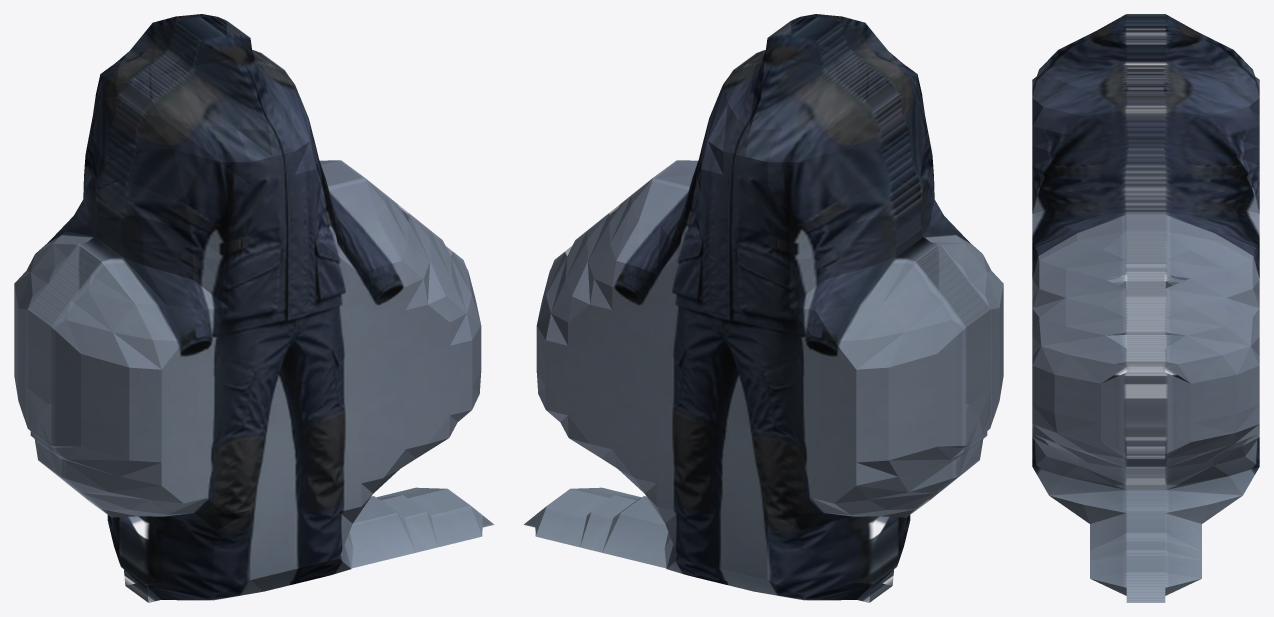
The model's file is tcx-horizon-rain-gear-048.glb.
3 views of the same model, side by side, from view 1: azimuth 30°, elevation 25°; view 2: azimuth 150°, elevation 25°; view 3: azimuth 270°, elevation 25° (orthographic). The views are drawn at different scales.
Visible parts, largest first — view 1: world; view 2: world; view 3: world.
Boxes of the visible parts, x1,y1,x2,y2 form: world: [14, 14, 494, 602]; world: [523, 14, 1003, 602]; world: [1032, 14, 1259, 602].
Bounding box in the file's own units: 0.8333 × 1 × 0.44.
1 material, 1 textured.
